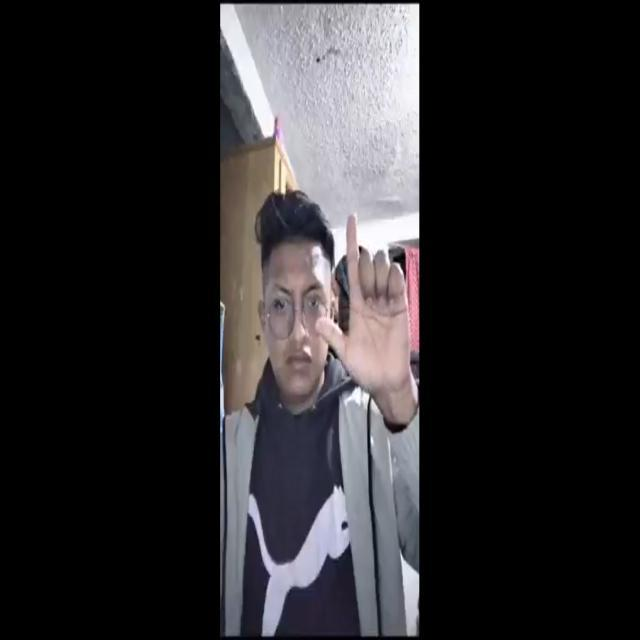L: (322, 207, 412, 426)
